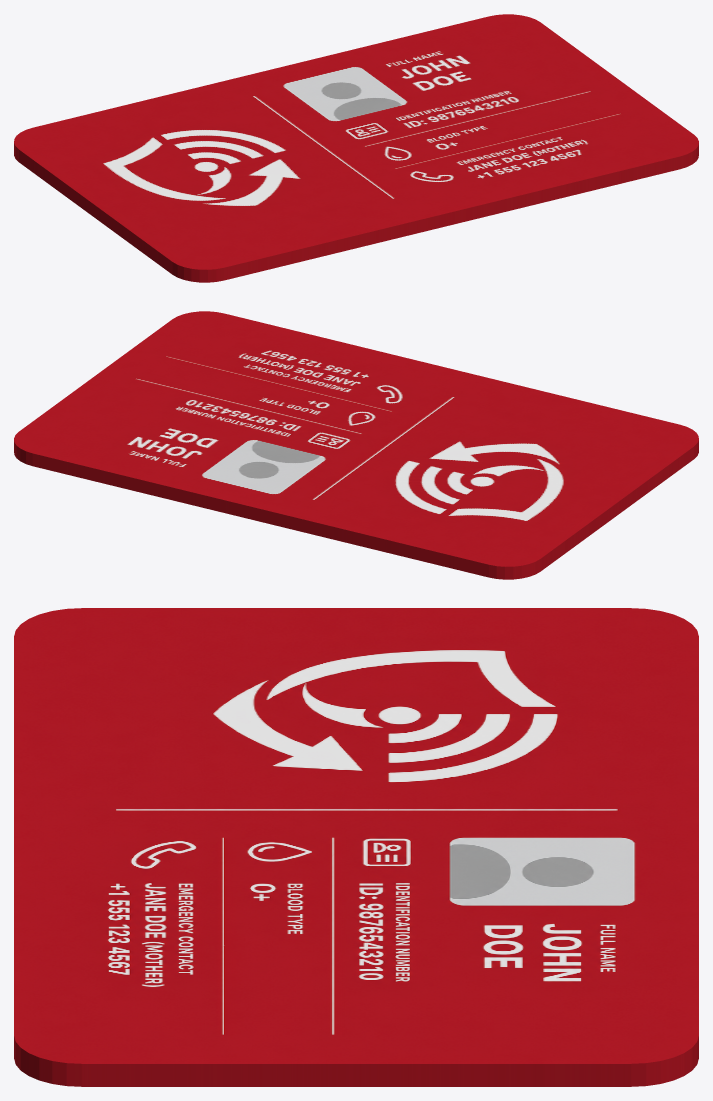
File: isafe-tarjeta.glb
The picture shows the model from 3 angles, top to bottom: view 1: azimuth 30°, elevation 25°; view 2: azimuth 150°, elevation 25°; view 3: azimuth 270°, elevation 25°; orthographic projection. The views are drawn at different scales.
Parts seen in each view (by area): view 1: Plane; view 2: Plane; view 3: Plane.
Part boxes in pixels (bbox=[...]): Plane: bbox=[14, 14, 698, 282]; Plane: bbox=[14, 311, 698, 579]; Plane: bbox=[14, 608, 698, 1086].
Bounding box in the file's own units: 0.085 × 0.002 × 0.054.
2 materials, 2 textured.
